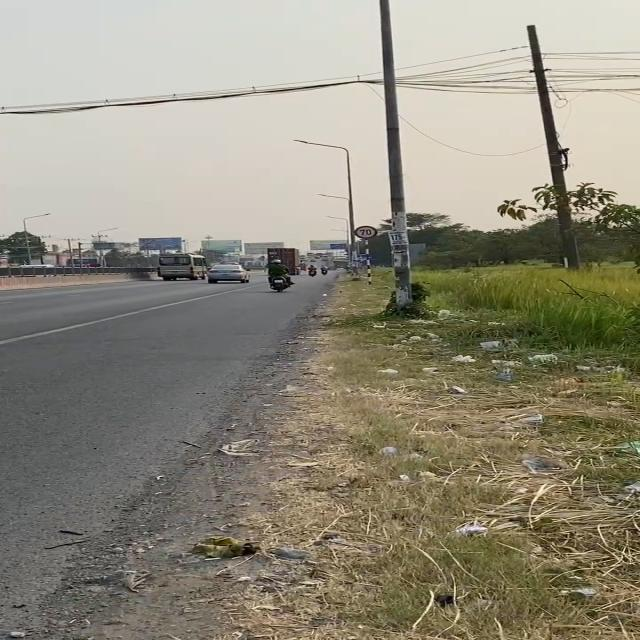127-toc-do-toi-da-70: (352, 224, 380, 240)
